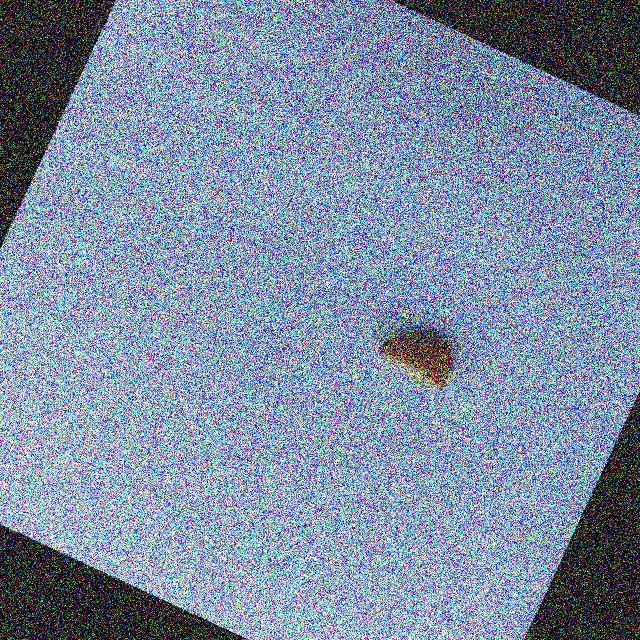grade4: (363, 306, 472, 401)
